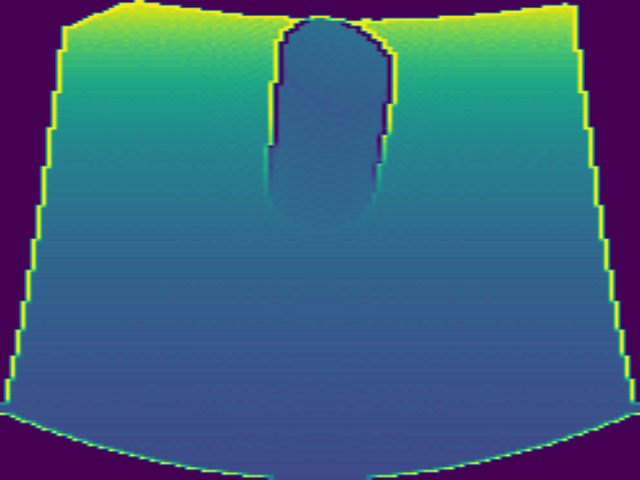cylinder: (265, 15, 398, 231)
